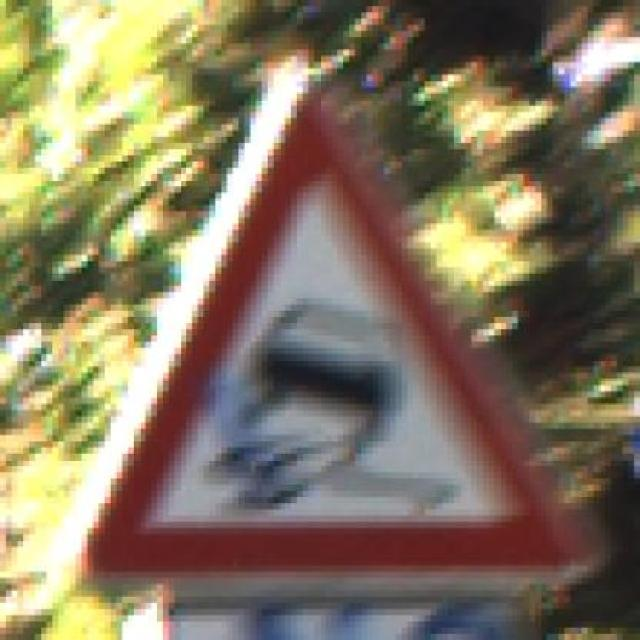Slippery Road Ahead: (47, 68, 605, 597)
